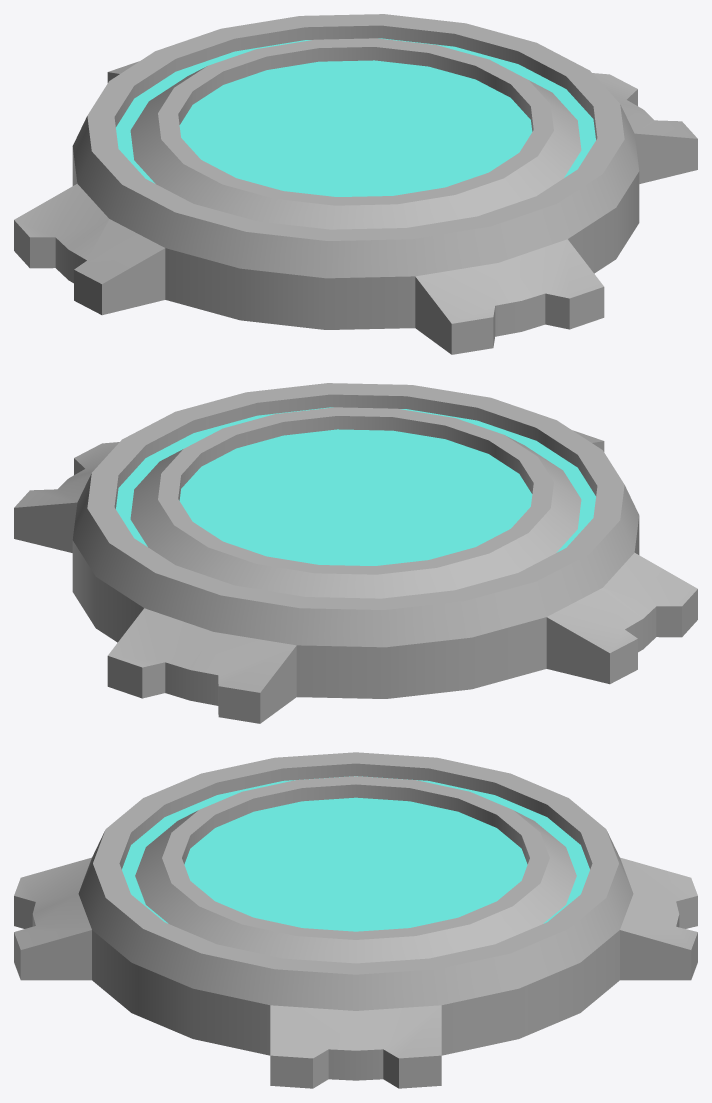
The model's file is teleporter.FBX.
The picture shows the model from 3 angles, top to bottom: view 1: azimuth 30°, elevation 25°; view 2: azimuth 150°, elevation 25°; view 3: azimuth 270°, elevation 25°; orthographic projection. The views are drawn at different scales.
Visible parts, largest first — view 1: Cylinder005, Object001; view 2: Cylinder005, Object001; view 3: Cylinder005, Object001.
Boxes of the visible parts, box(x1,y1,x2,y2) form: Cylinder005: box(14, 14, 697, 354); Object001: box(116, 38, 595, 196); Cylinder005: box(14, 383, 697, 723); Object001: box(116, 407, 595, 565); Cylinder005: box(14, 752, 697, 1088); Object001: box(122, 776, 589, 931).
Size of the model in its own units: 8.34 by 1.16 by 8.34.
Materials: 1 (1 with a texture image).
